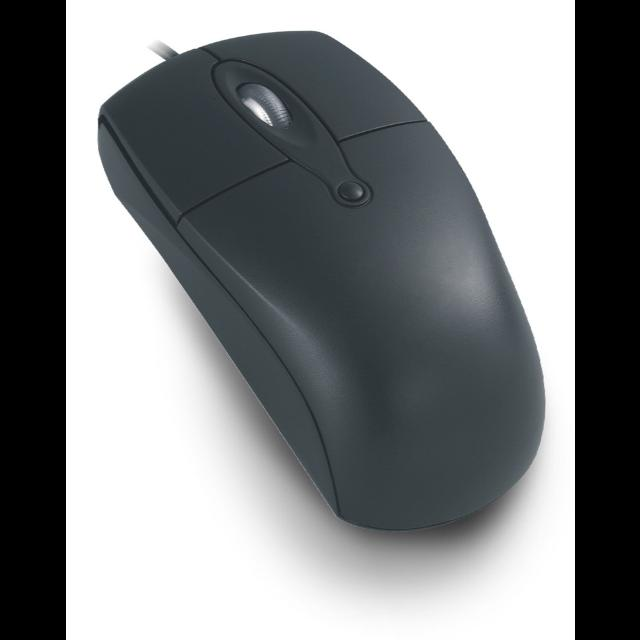Computer-Mouse: (96, 30, 546, 536)
